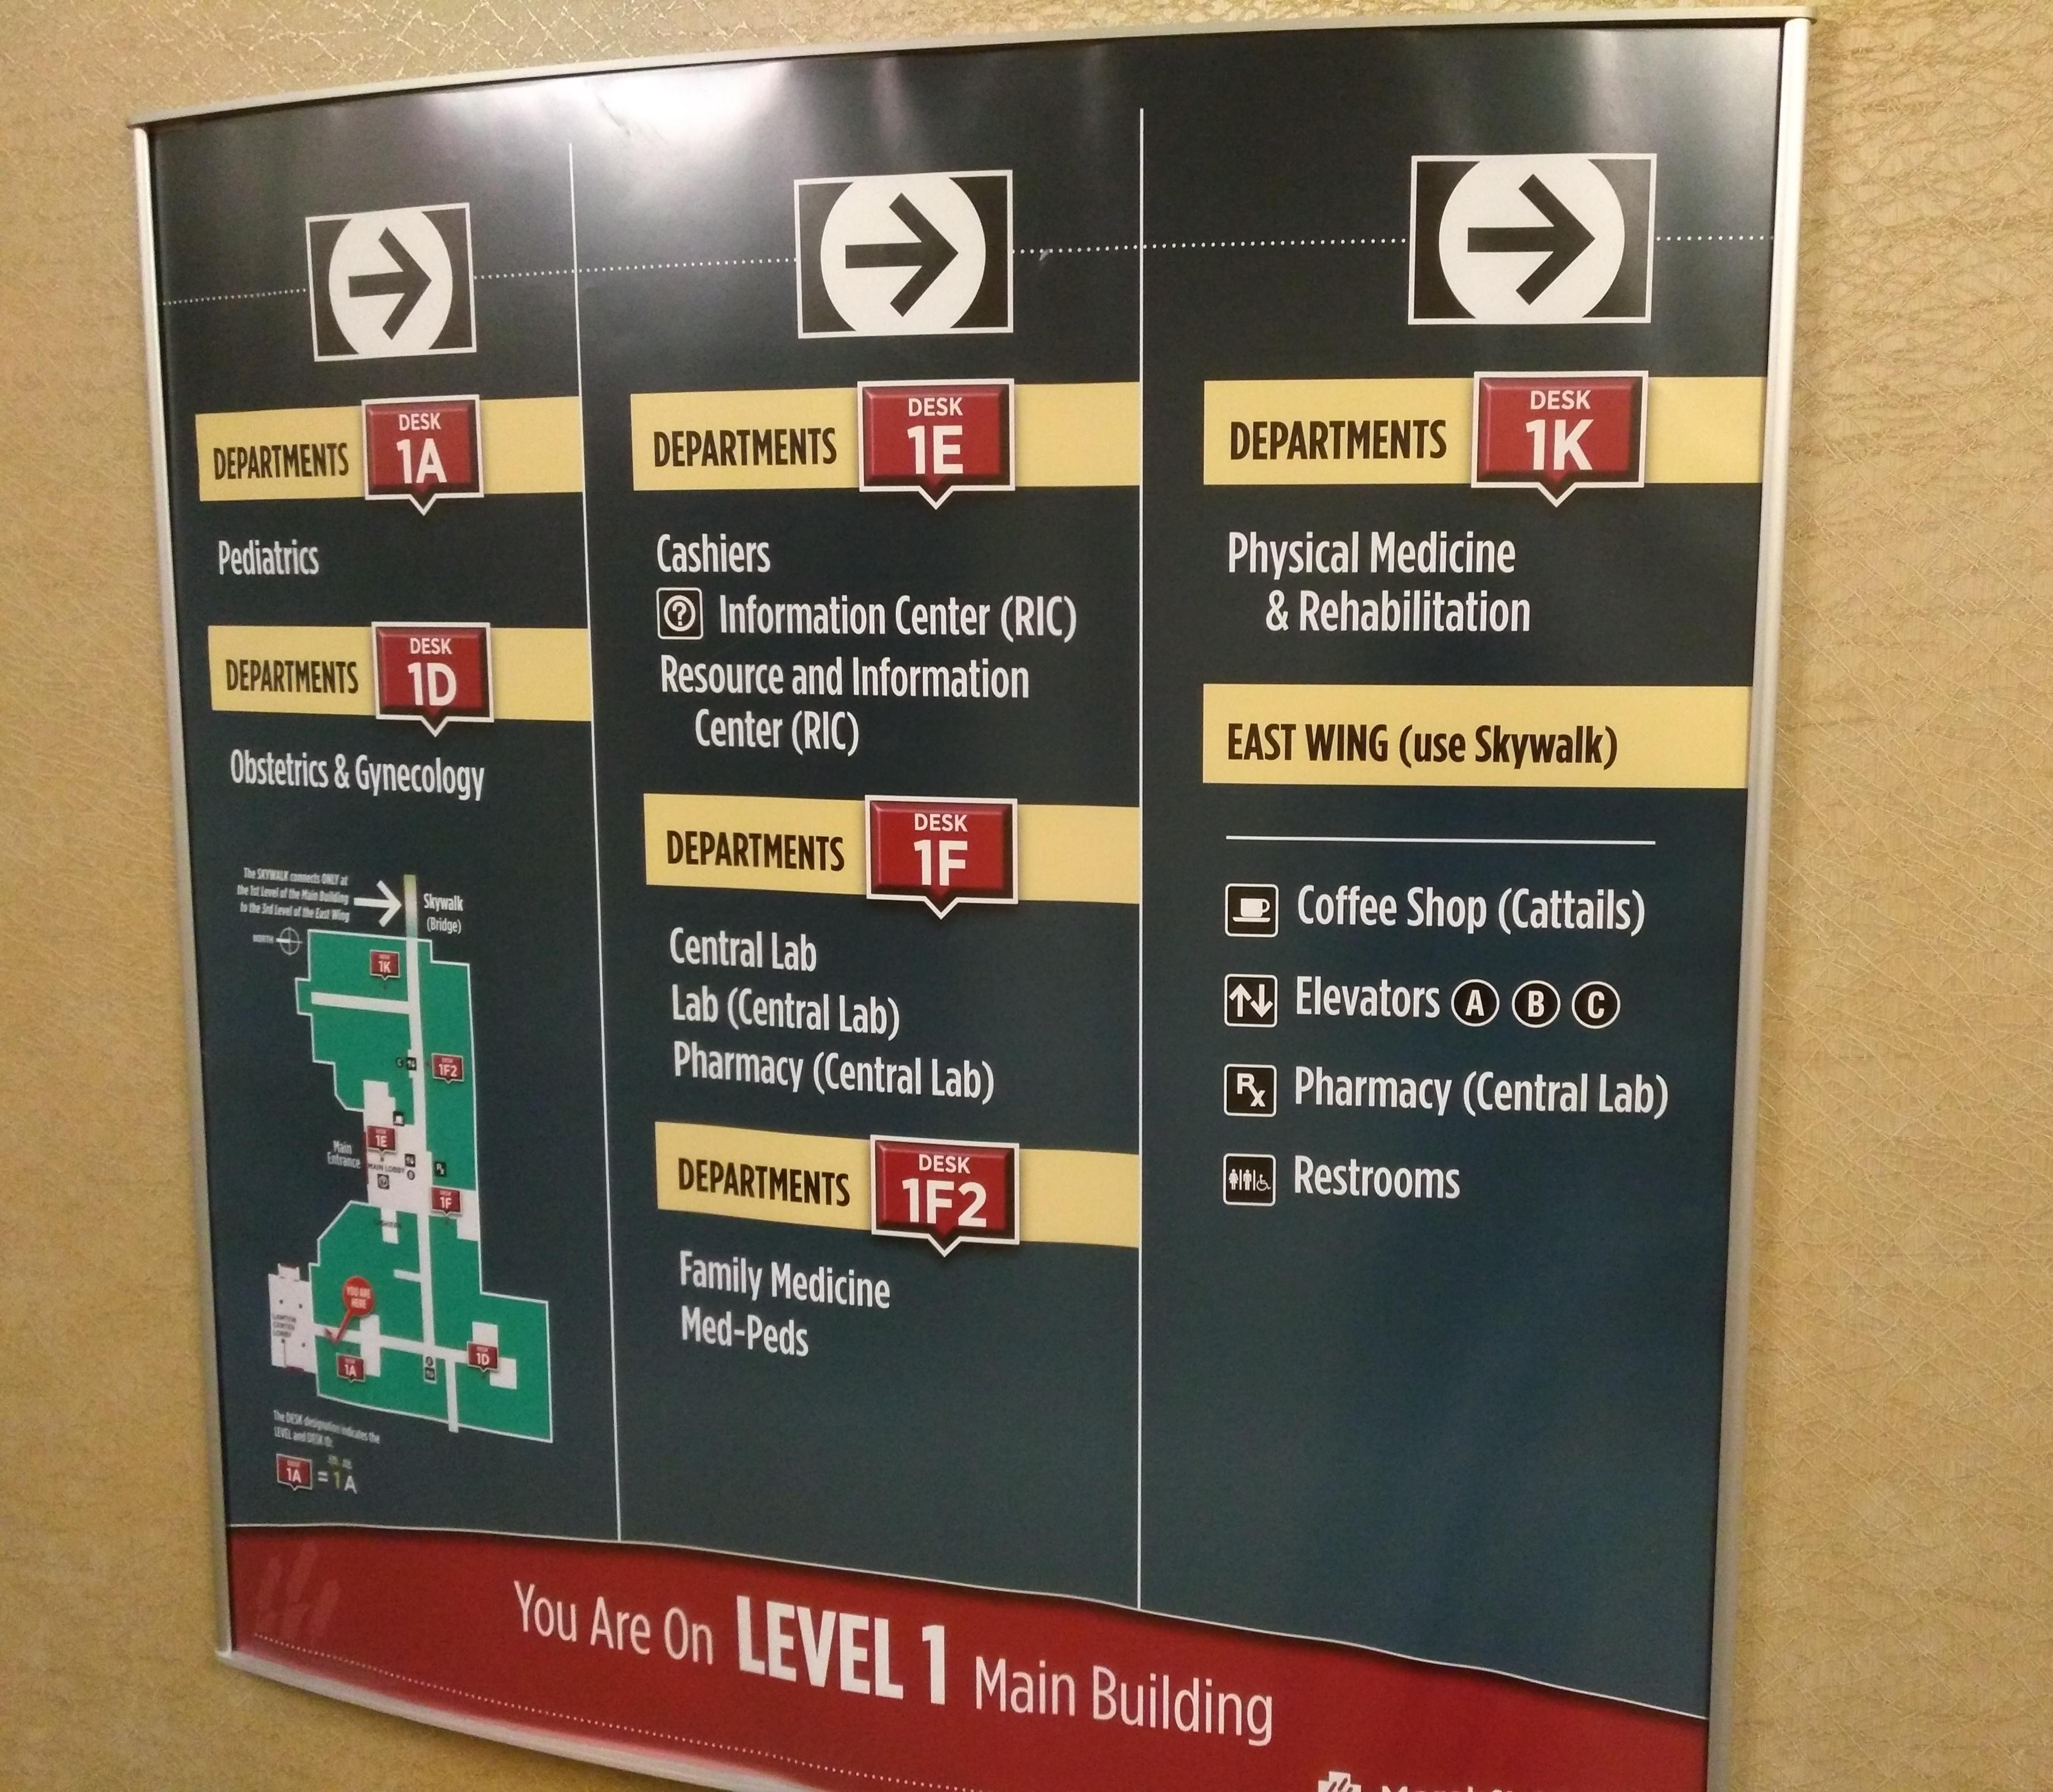sign: (129, 12, 1812, 1790)
